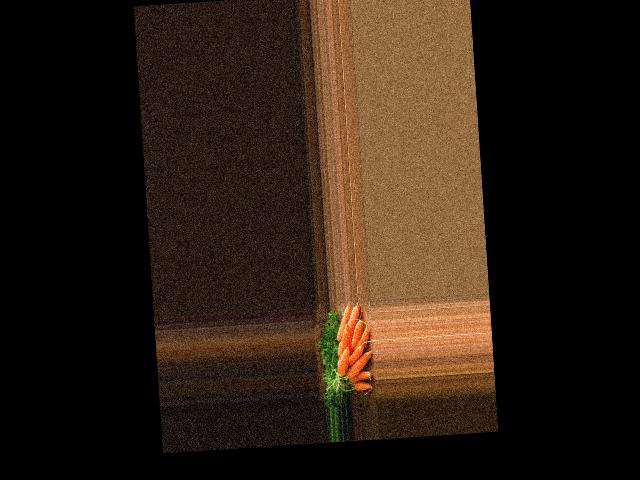carrot: (342, 350, 373, 381)
